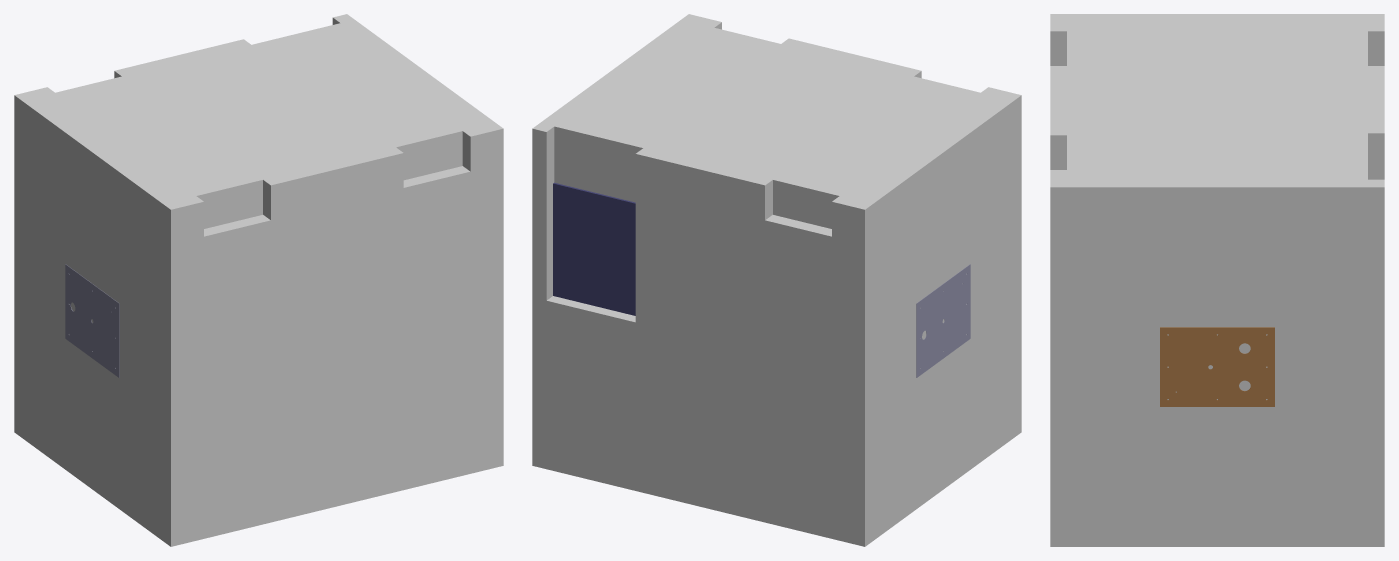
Rendered from assembly.glb.
3 views of the same model, side by side, from view 1: azimuth 30°, elevation 25°; view 2: azimuth 150°, elevation 25°; view 3: azimuth 270°, elevation 25° (orthographic). The views are drawn at different scales.
Visible parts, largest first — view 1: container_shell, ARC-PLT-CG; view 2: container_shell, GRD-SWG-001, ARC-PLT-CG; view 3: container_shell, ARC-PLT-BG-DC.
Boxes of the visible parts, x1,y1,x2,y2 form: container_shell: (14, 14, 503, 546); ARC-PLT-CG: (65, 264, 119, 377); container_shell: (532, 14, 1021, 546); GRD-SWG-001: (553, 182, 635, 315); ARC-PLT-CG: (916, 264, 970, 377); container_shell: (1050, 14, 1384, 546); ARC-PLT-BG-DC: (1160, 327, 1274, 406).
Size of the model in its own units: 2997 by 2896 by 2438.
